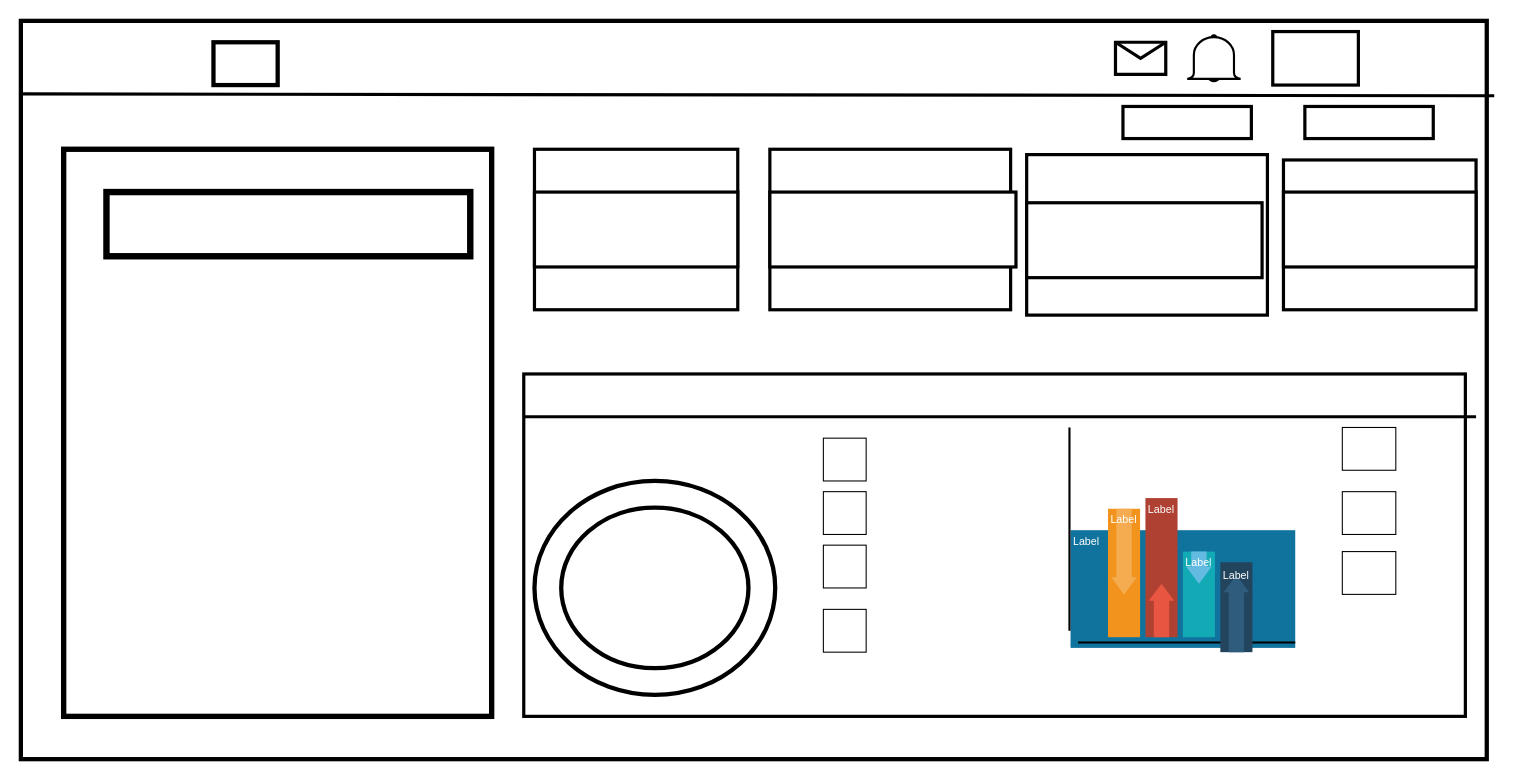
Some shapes in this 1515 by 779 pixel diagram are drawn without their labels. The box of each missing label's shape, as (x1, y1, x2, y2) in pixels:
bar diagram: (522, 372, 1466, 717)
MAIN NAVIATION: (103, 188, 473, 259)
